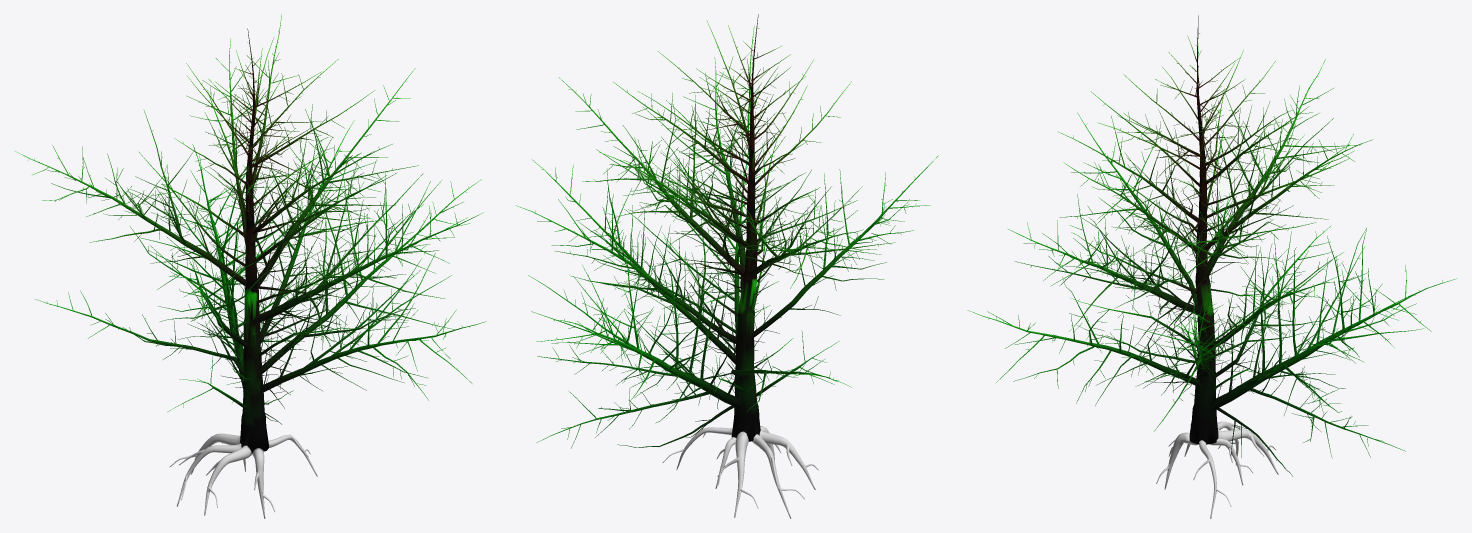
3 views of the same model, side by side, from view 1: azimuth 30°, elevation 25°; view 2: azimuth 150°, elevation 25°; view 3: azimuth 270°, elevation 25° (orthographic).
Parts seen in each view (by area): view 1: Branches, Trunk, Roots; view 2: Branches, Trunk, Roots; view 3: Branches, Trunk, Roots.
Part boxes in pixels (x1,y1,x2,y2): Branches: (15,14,486,424); Trunk: (240,28,268,453); Roots: (169,433,317,518); Branches: (515,20,938,448); Trunk: (731,14,760,441); Roots: (662,426,818,518); Branches: (967,27,1456,476); Trunk: (1189,15,1218,444); Roots: (1156,421,1278,518).
Bounding box in the file's own units: 39683 × 42322 × 45422.
